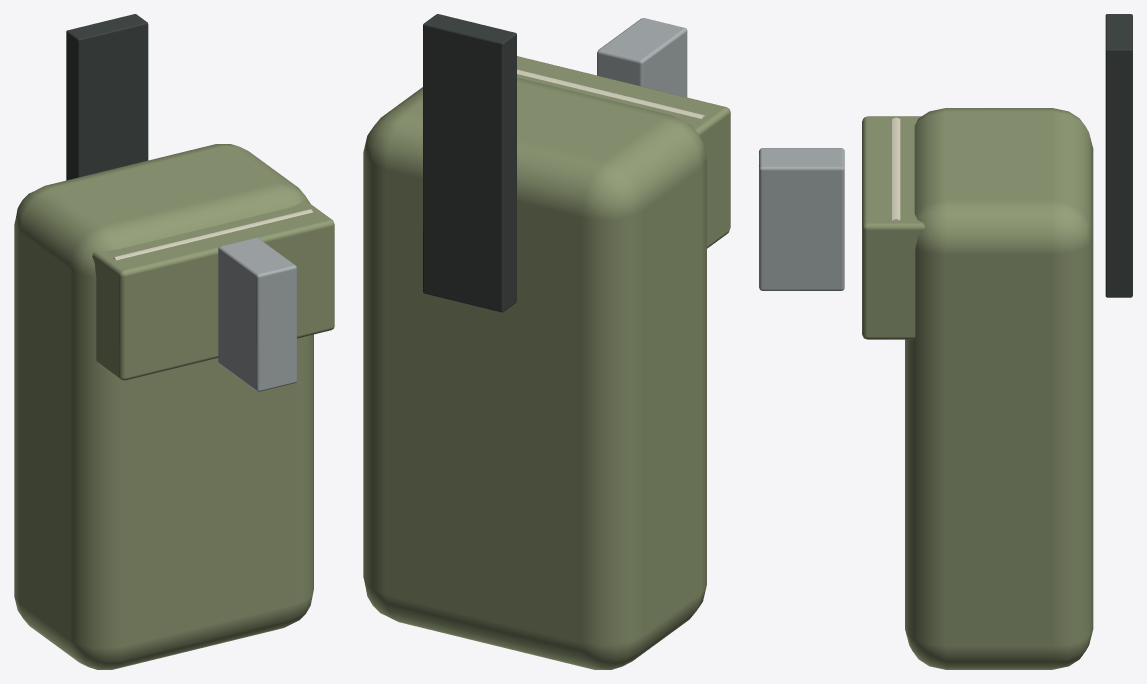
Rendered from backpacks-and-expedition-storage-radio-pouch-5165fc00__21084.glb.
3 renders of one model, left to right at view 1: azimuth 30°, elevation 25°; view 2: azimuth 150°, elevation 25°; view 3: azimuth 270°, elevation 25°, orthographic. The views are drawn at different scales.
Parts seen in each view (by area): view 1: radio-pouch, flap/canvas; view 2: radio-pouch, flap/canvas; view 3: radio-pouch, flap/canvas.
Boxes of the visible parts, x1=… form: radio-pouch: x1=14, y1=14, x2=313, y2=669; flap/canvas: x1=92, y1=200, x2=334, y2=380; radio-pouch: x1=363, y1=14, x2=706, y2=669; flap/canvas: x1=517, y1=56, x2=730, y2=248; radio-pouch: x1=759, y1=14, x2=1132, y2=669; flap/canvas: x1=862, y1=116, x2=924, y2=339.
Size of the model in its own units: 0.085 by 0.19 by 0.109.
